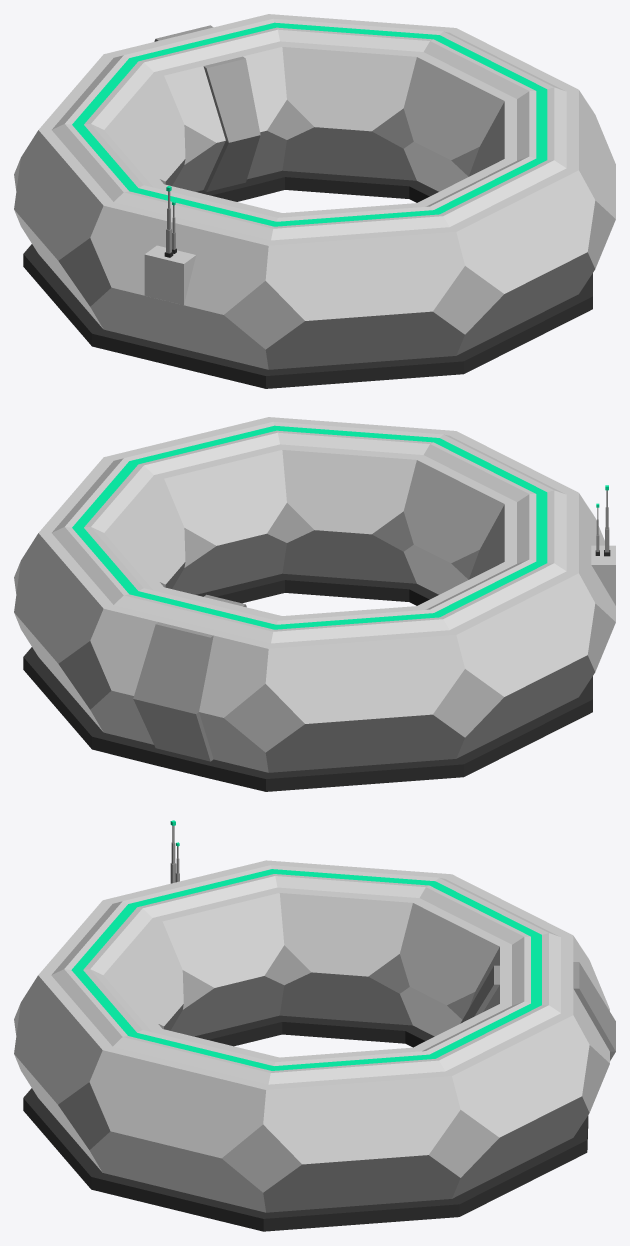
Rendered from Shelter.fbx.
3 views of the same model, one above another, from view 1: azimuth 30°, elevation 25°; view 2: azimuth 150°, elevation 25°; view 3: azimuth 270°, elevation 25° (orthographic).
Visible parts, largest first — view 1: Shelter; view 2: Shelter; view 3: Shelter.
Boxes of the visible parts, box(x1,y1,x2,y2) form: Shelter: box(14, 14, 615, 388); Shelter: box(14, 417, 615, 791); Shelter: box(14, 820, 615, 1231).
Size of the model in its own units: 961 by 321 by 956.
